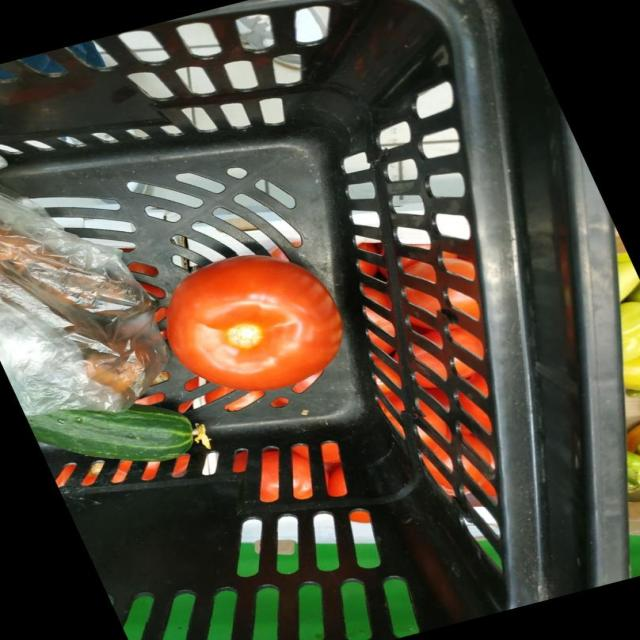carrot: (66, 192, 217, 554), (26, 157, 69, 466), (8, 134, 27, 410)
cucumber: (83, 232, 270, 640)
tomato: (153, 192, 484, 555)
